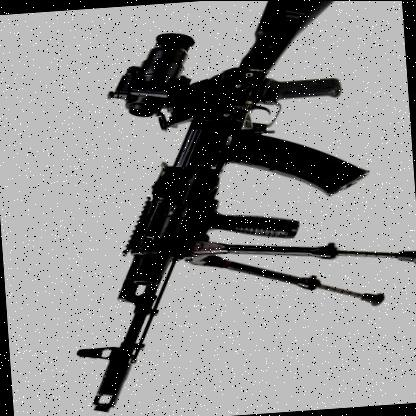rifle: (32, 0, 382, 416)
